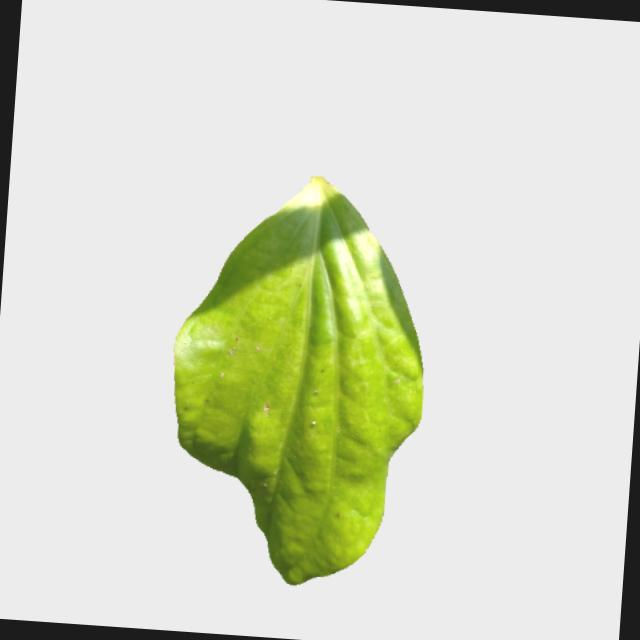yellow-mottle-virus: (160, 168, 440, 593)
